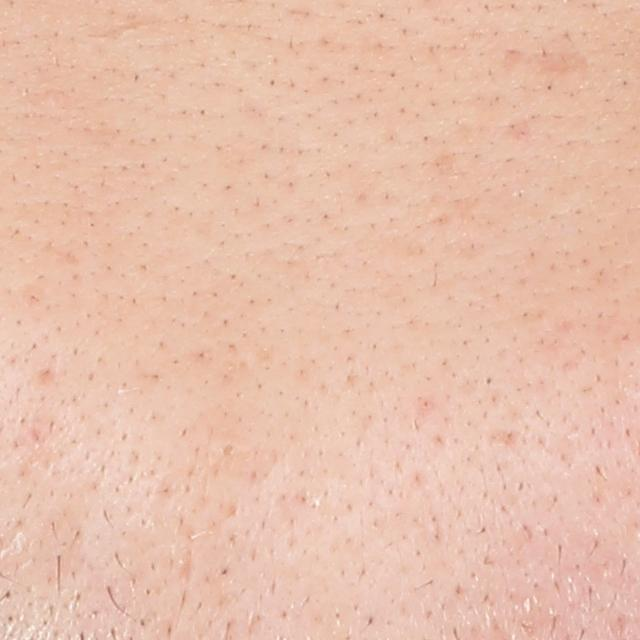comedo: (217, 438, 238, 461)
